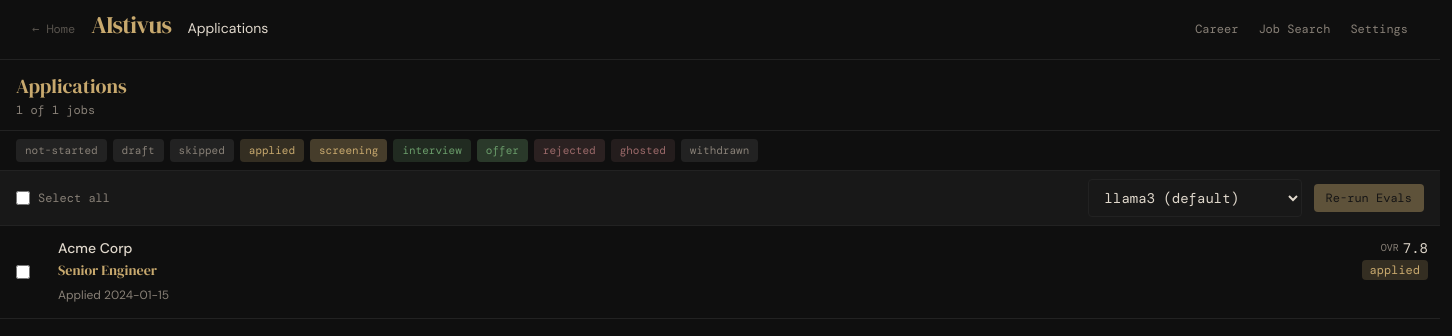
it: Applications page › toggling a status pill hides matching rows
This screenshot has width=1452, height=336.
Expected: the text "Acme Corp" is shown, [58,238,132,256]
Note: the pill in the filter bar is the first one
What coordinates should you click on to do the following:
click the button "applied"
I would click on:
 (272, 150)
Its box is [240,139,304,162].
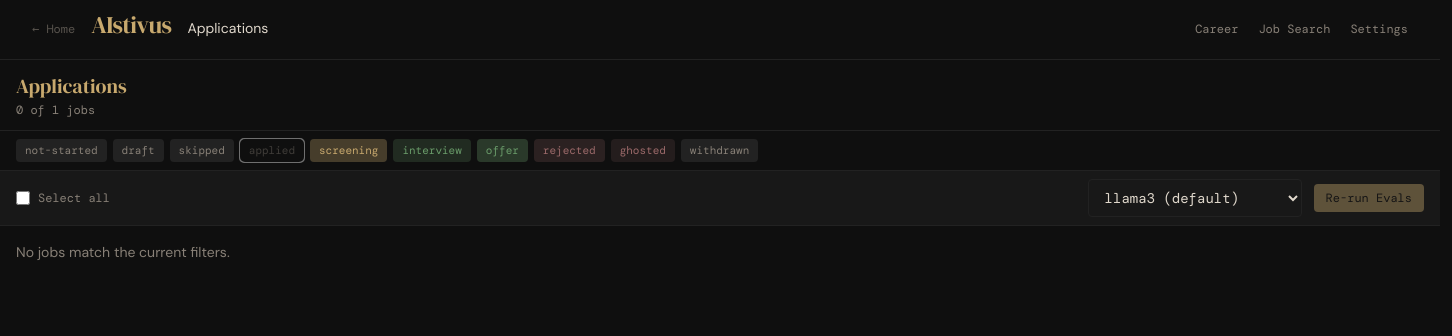
Expected: the button "Acme Corp" is gone
Expected: the text "0 of 1 jobs" is shown, [16,102,95,118]
